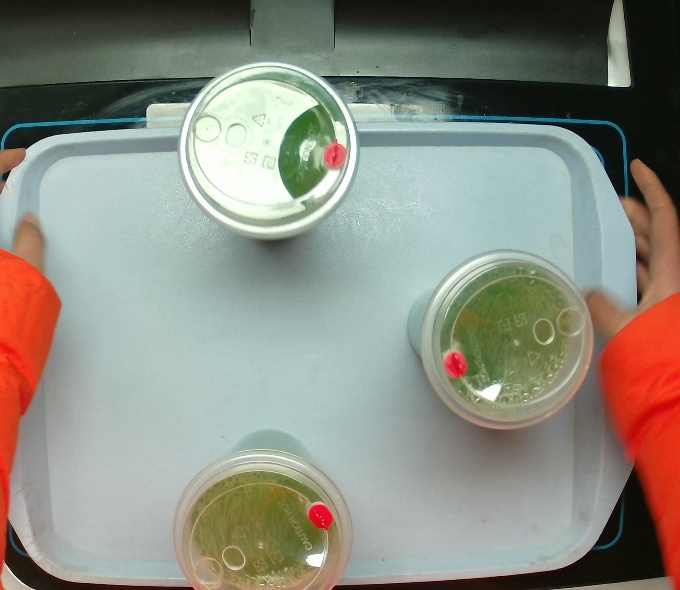wcq-HuangGuaZhi: (406, 247, 595, 434), (175, 60, 362, 244), (170, 426, 355, 590)
